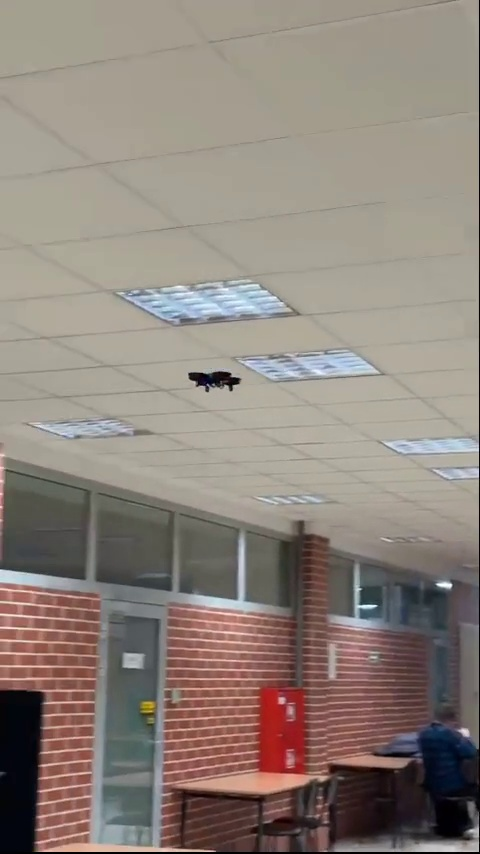drone: (183, 367, 243, 394)
no vest: (417, 704, 479, 808)
